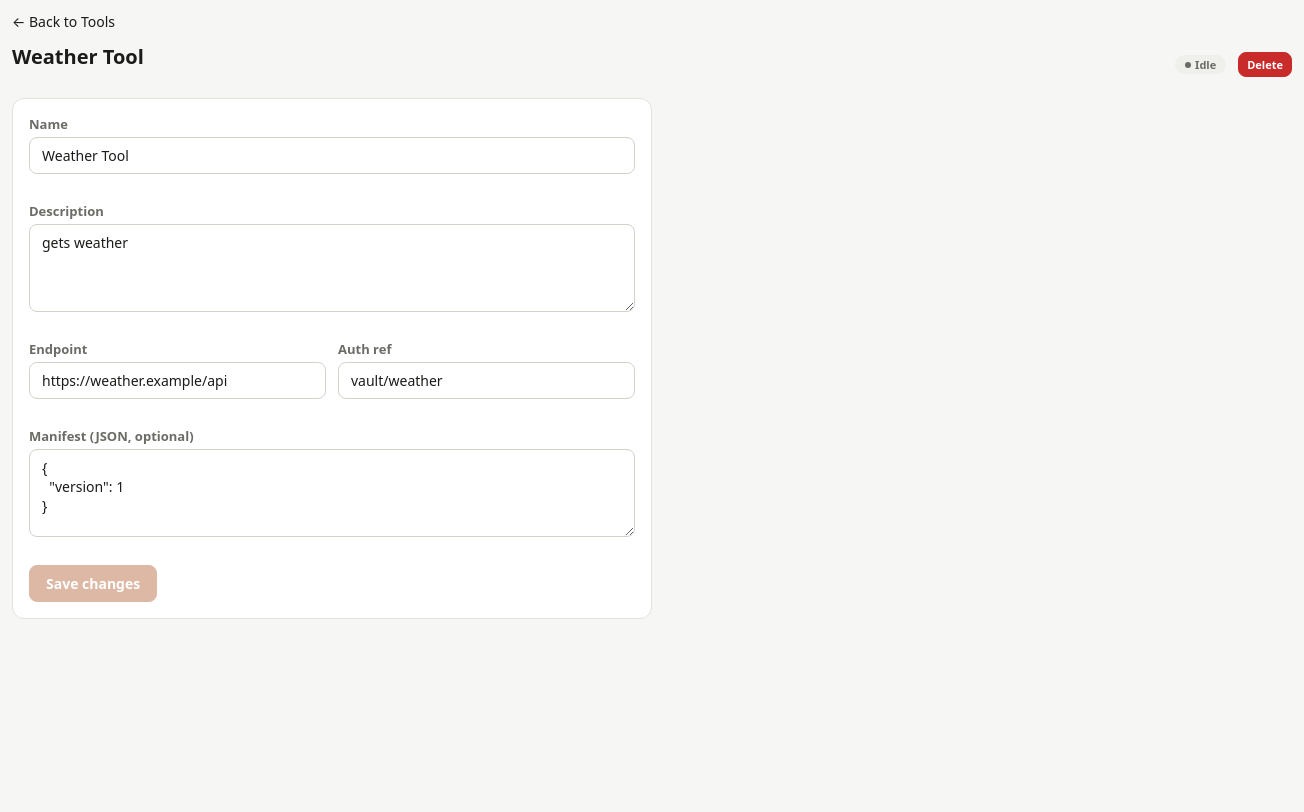
Test: registry tool editing › save is disabled until a field changes, then PATCHes trimmed values
Check: the button "Save changes" is disabled, box top-left (29, 565), bottom-right (157, 602)
Replace the text in the field showing "Weather Tool" with "  Storm Watch  " at (332, 156), box top-left (29, 137), bottom-right (635, 174)
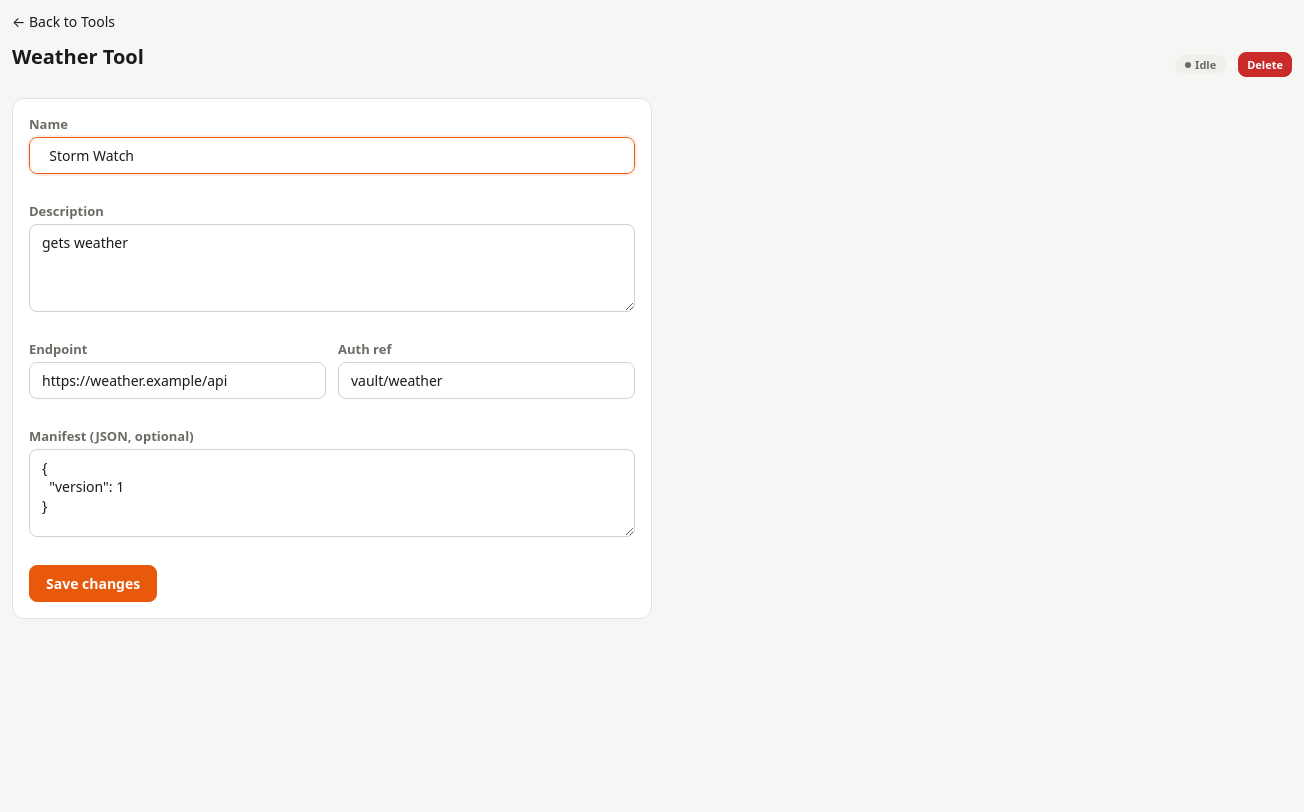
Check: the button "Save changes" is enabled
Click the button "Save changes".
click(93, 584)  # box top-left (29, 565), bottom-right (157, 602)
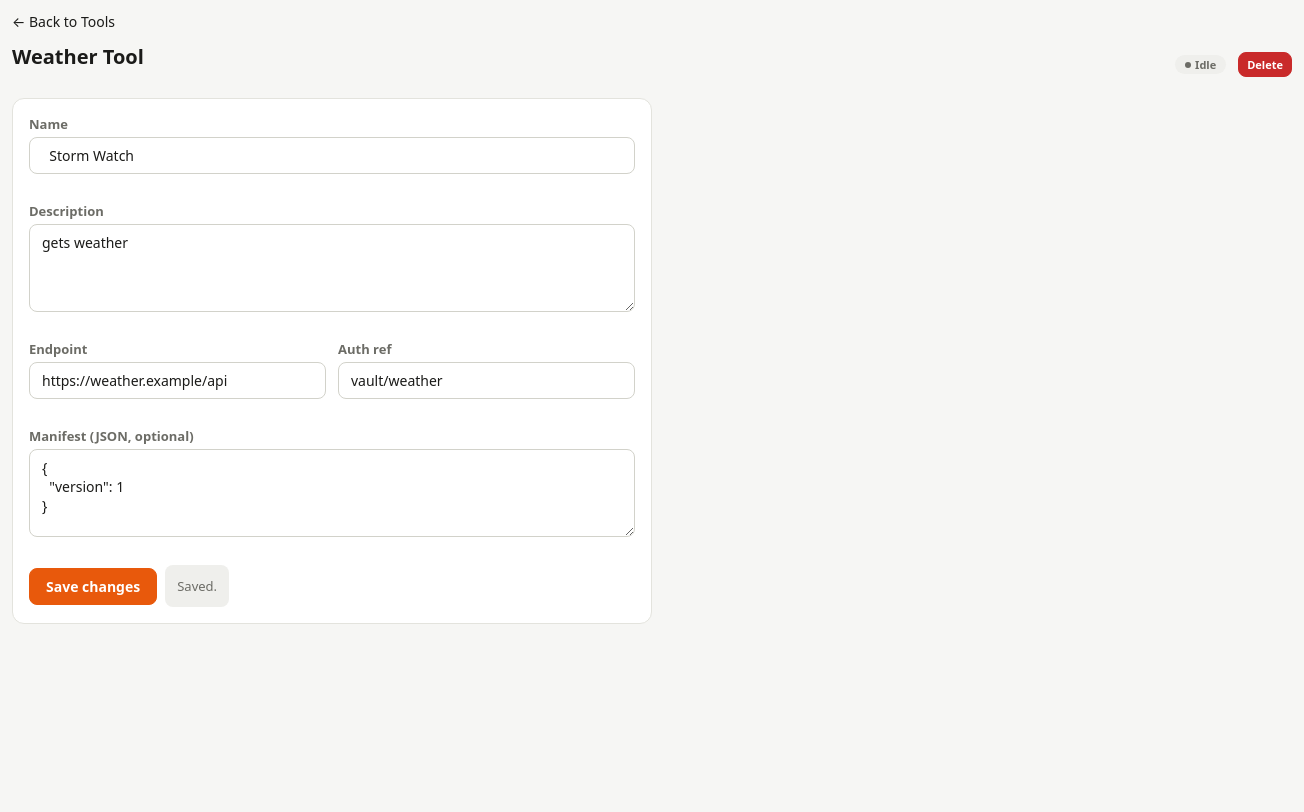
Check: the text "Saved." is shown, box top-left (165, 565), bottom-right (229, 607)
